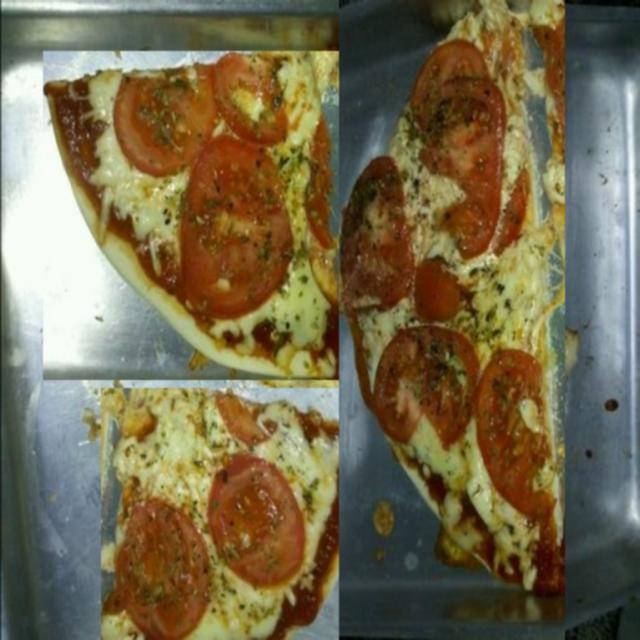pizza: (338, 0, 564, 640), (42, 51, 341, 380), (99, 388, 372, 640)
